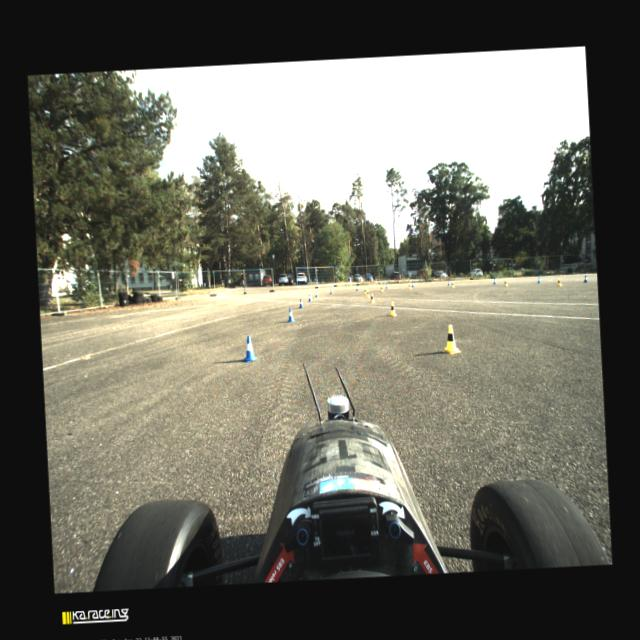blue_cone: (242, 334, 258, 362), (286, 308, 296, 322), (298, 298, 304, 309), (583, 275, 588, 283), (308, 294, 312, 302), (314, 290, 318, 298), (537, 276, 541, 284), (493, 278, 496, 286), (356, 286, 359, 292), (448, 280, 451, 286), (412, 282, 415, 287), (330, 289, 332, 295), (386, 284, 388, 288)
yellow_cone: (441, 324, 461, 354), (389, 301, 397, 316), (370, 293, 375, 303), (557, 278, 562, 287), (366, 290, 370, 298), (504, 280, 508, 286), (409, 283, 412, 289), (381, 286, 384, 292), (364, 288, 367, 294), (452, 281, 454, 288)
